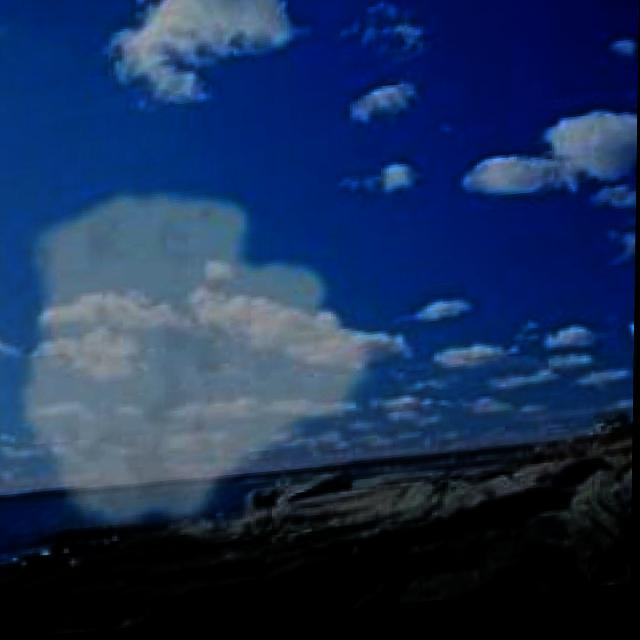Smoke: (20, 172, 381, 542)
